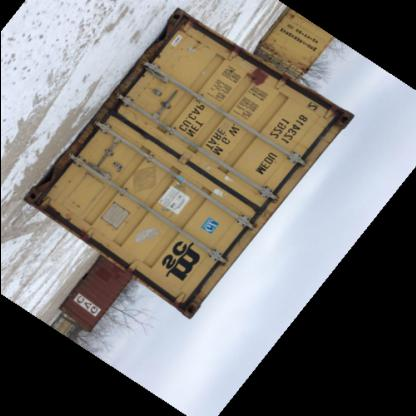Damage: (299, 80, 353, 132), (30, 181, 76, 239), (134, 38, 176, 88), (62, 122, 102, 171), (89, 102, 144, 130), (172, 276, 204, 324), (233, 61, 274, 96)
